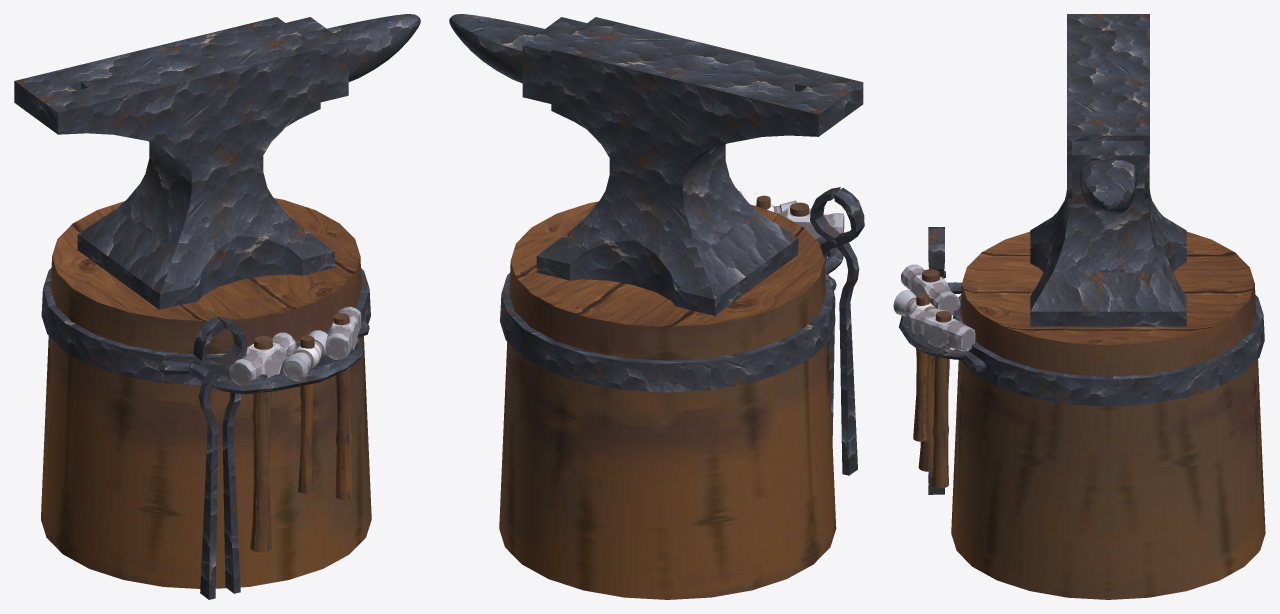
The model's file is furn_anvil_log.glb.
The picture shows the model from 3 angles, left to right: view 1: azimuth 30°, elevation 25°; view 2: azimuth 150°, elevation 25°; view 3: azimuth 270°, elevation 25°; orthographic projection. The views are drawn at different scales.
Visible parts, largest first — view 1: model; view 2: model; view 3: model.
Boxes of the visible parts, <box> form: model: <box>14,14,420,599</box>; model: <box>449,14,864,599</box>; model: <box>893,14,1265,599</box>.
Bounding box in the file's own units: 0.8364 × 0.966 × 0.7393.
3 materials, 3 textured.
